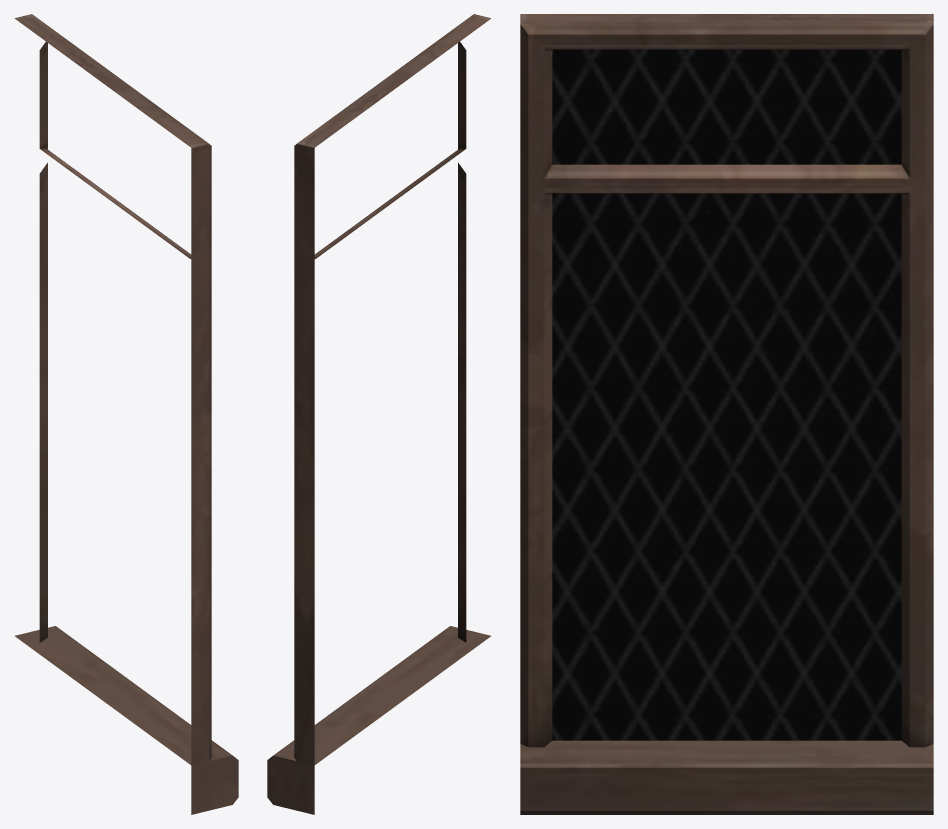
3 views of the same model, side by side, from view 1: azimuth 30°, elevation 25°; view 2: azimuth 150°, elevation 25°; view 3: azimuth 270°, elevation 25° (orthographic). The views are drawn at different scales.
Visible parts, largest first — view 1: body0_model0_lod0_mesh1; view 2: body0_model0_lod0_mesh1; view 3: body0_model0_lod0_mesh0, body0_model0_lod0_mesh1.
Part boxes in pixels (x1=…): body0_model0_lod0_mesh1: x1=15, y1=14, x2=238, y2=814; body0_model0_lod0_mesh1: x1=267, y1=14, x2=490, y2=814; body0_model0_lod0_mesh0: x1=552, y1=49, x2=901, y2=740; body0_model0_lod0_mesh1: x1=520, y1=14, x2=933, y2=814.
Size of the model in its own units: 8 by 108 by 52.
Materials: 2 (2 with a texture image).
